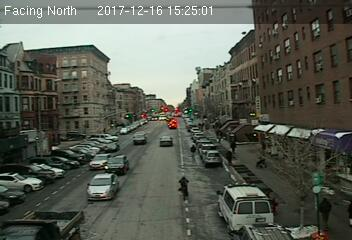bicycle: (178, 176, 190, 202)
car: (87, 172, 118, 200), (106, 154, 131, 174), (88, 154, 112, 169), (202, 151, 221, 164), (159, 135, 172, 146), (132, 132, 146, 142)
police: (214, 181, 278, 234)
